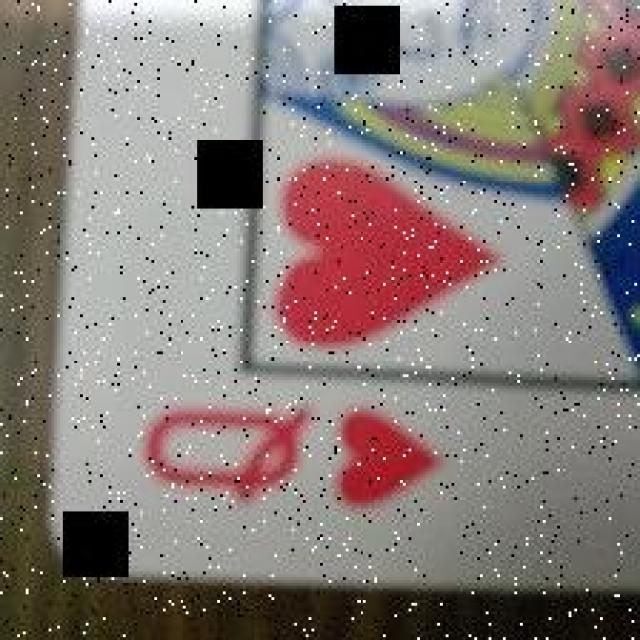Queen of hearts: (52, 1, 640, 591)
